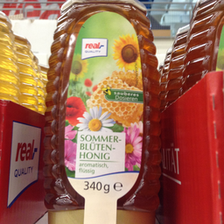honey: (41, 1, 153, 223)
